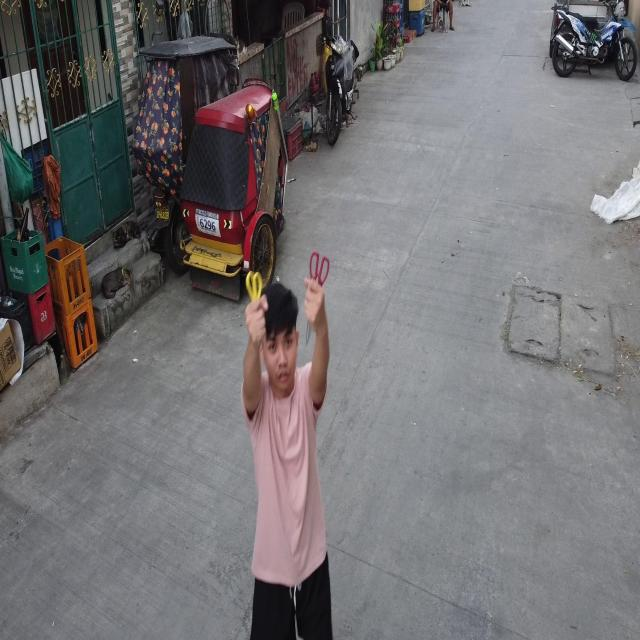scissor: (305, 251, 331, 348), (245, 271, 264, 350)
